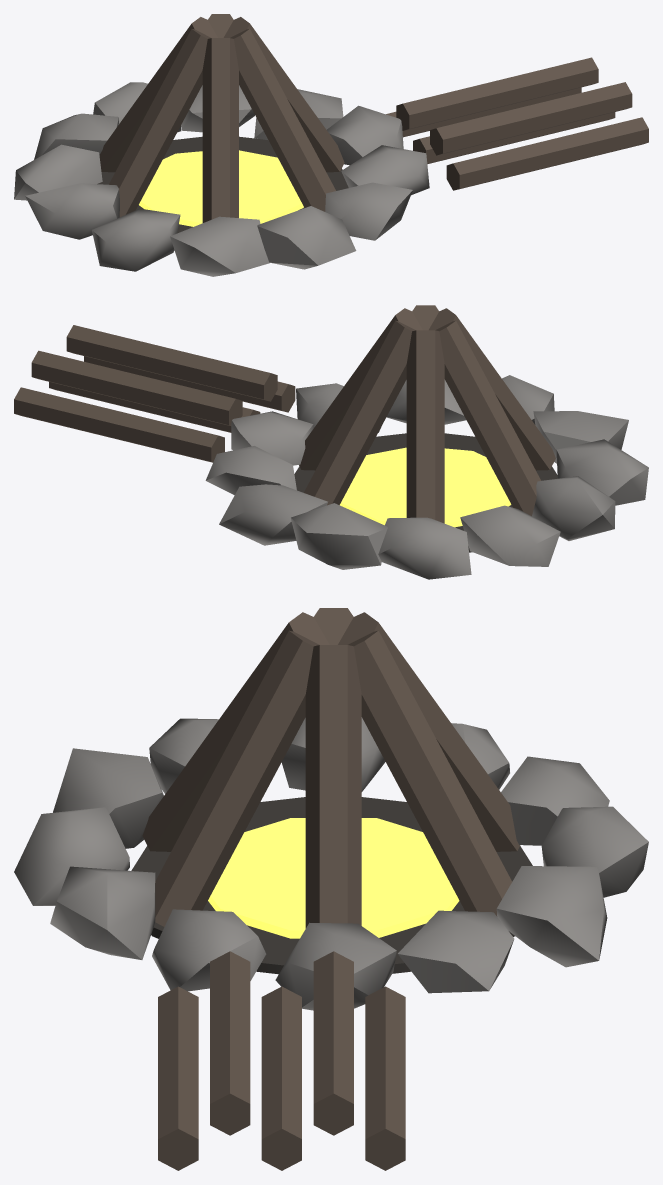
Rendered from ZR_Bonfire.fbx.
The picture shows the model from 3 angles, top to bottom: view 1: azimuth 30°, elevation 25°; view 2: azimuth 150°, elevation 25°; view 3: azimuth 270°, elevation 25°; orthographic projection. The views are drawn at different scales.
Parts seen in each view (by area): view 1: ZR_Bonfire; view 2: ZR_Bonfire; view 3: ZR_Bonfire.
Boxes of the visible parts, left/top/right/bottom form: ZR_Bonfire: left=14, top=14, right=648, bottom=276; ZR_Bonfire: left=14, top=305, right=648, bottom=579; ZR_Bonfire: left=14, top=608, right=648, bottom=1170.
Size of the model in its own units: 3.81 by 1.2 by 2.45.
